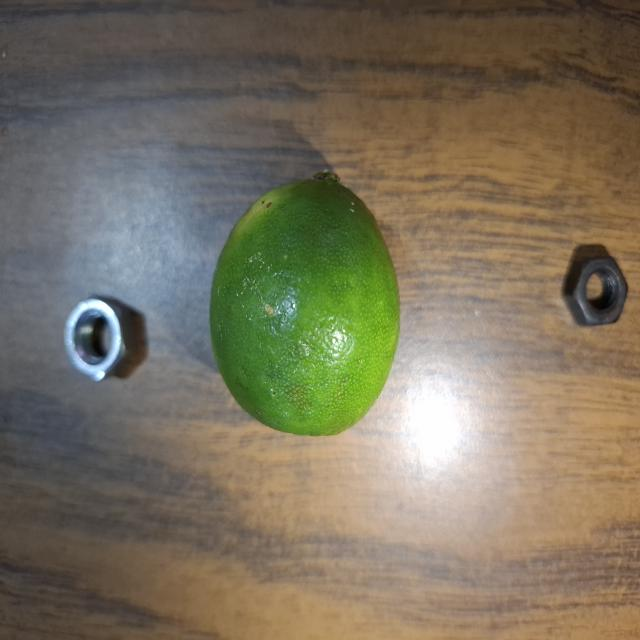limon: (208, 156, 398, 444)
milimetrico: (550, 244, 630, 332)
tuerca: (50, 280, 140, 394)
